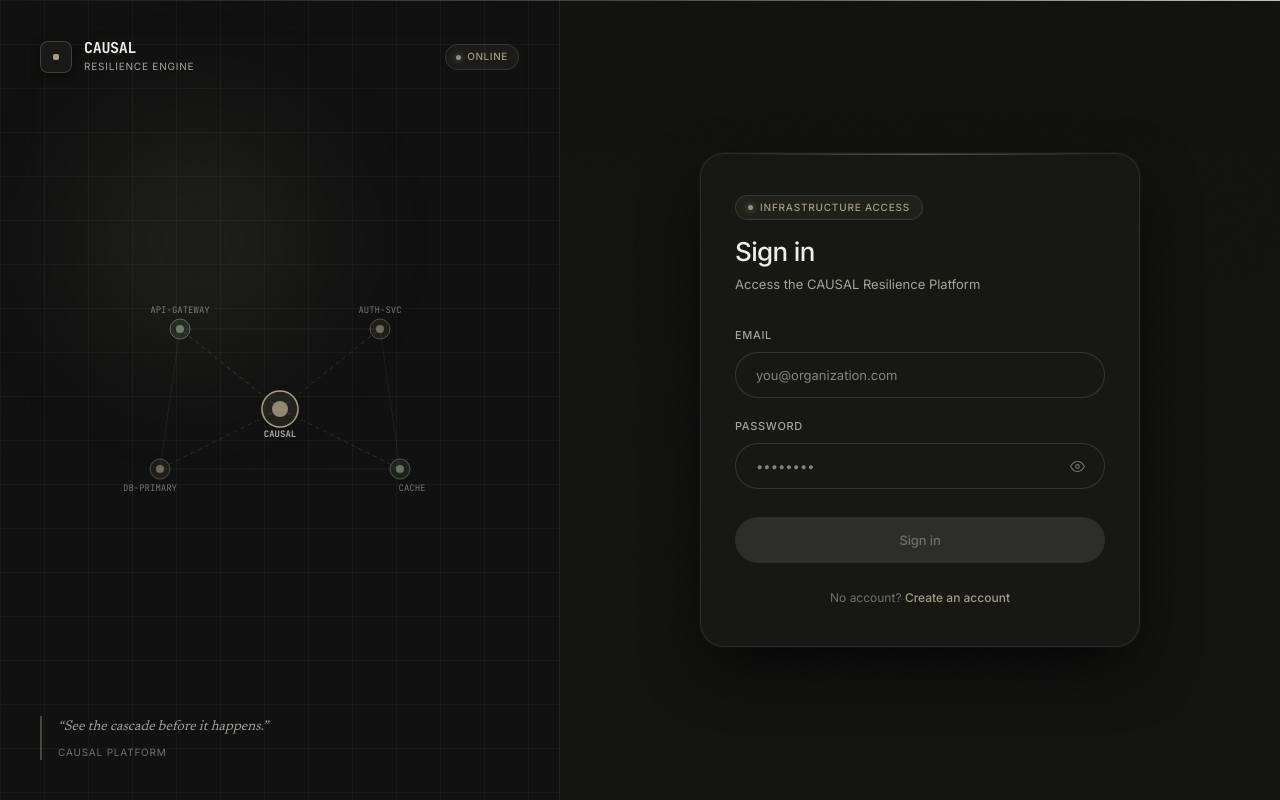
Test case: Authentication: Sign In Page (/login) › displays an error alert when login fails
Type "wrong@causal.systems" into the field with id "login-email" at (920, 375), box x1=735 y1=352 x2=1105 y2=398
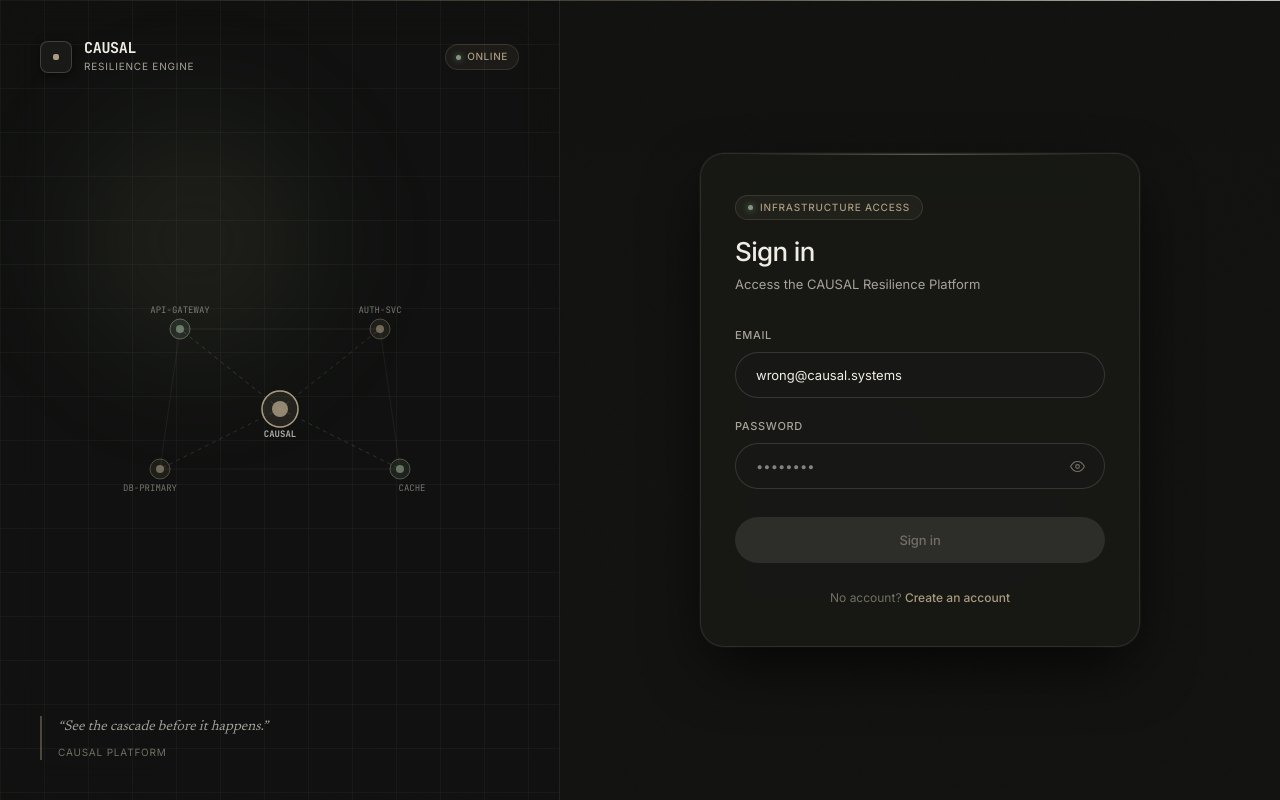
Type "wrongpassword" into the password field with id "login-password" at (920, 466), box x1=735 y1=443 x2=1105 y2=489
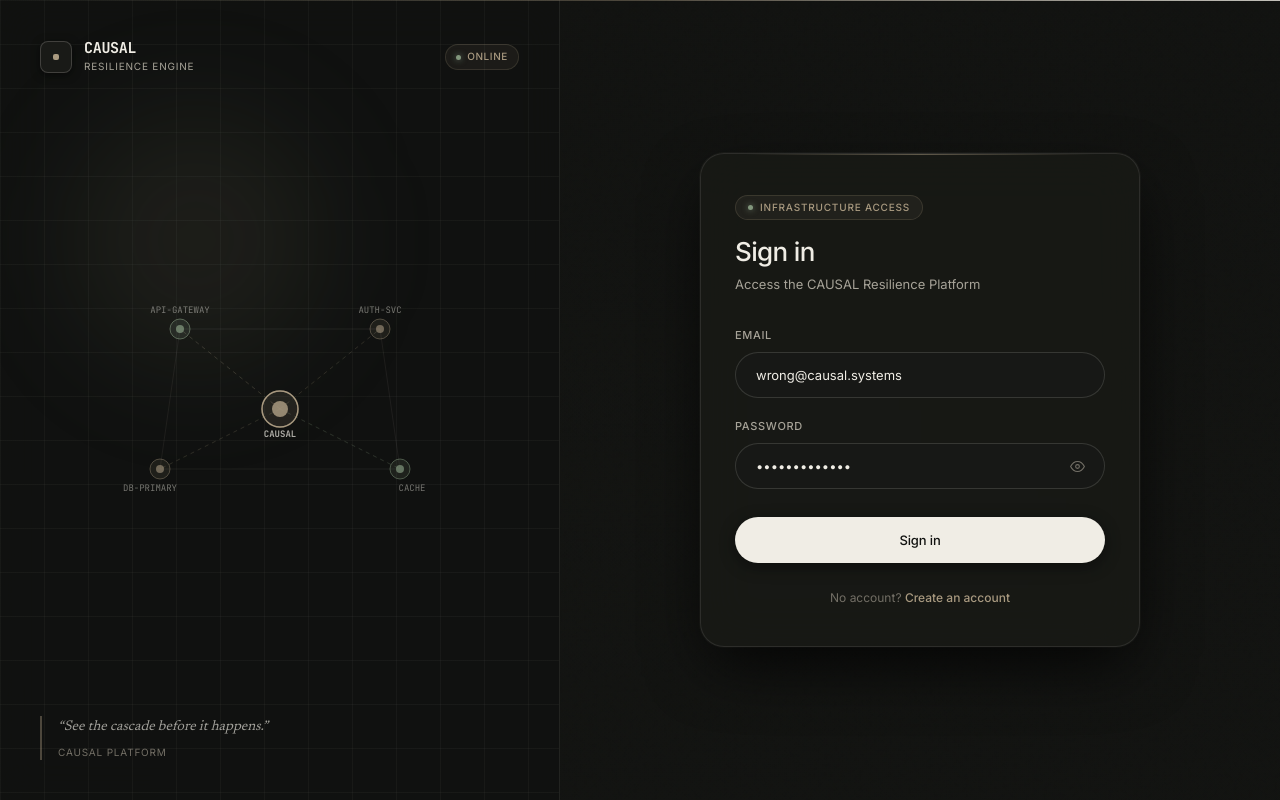
Submit the form with id "login-submit-btn", box x1=735 y1=327 x2=1105 y2=563
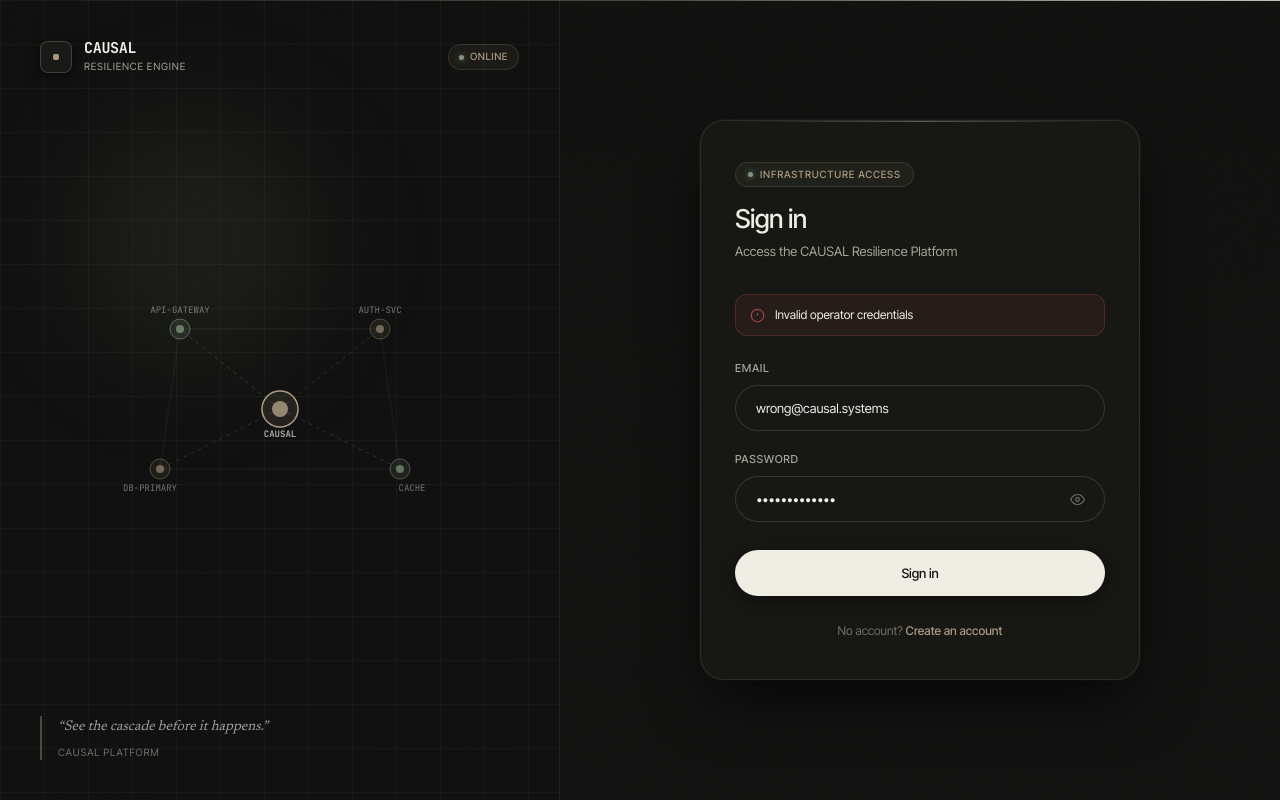
Now the text "Invalid operator credentials" is shown, box x1=775 y1=306 x2=913 y2=324
